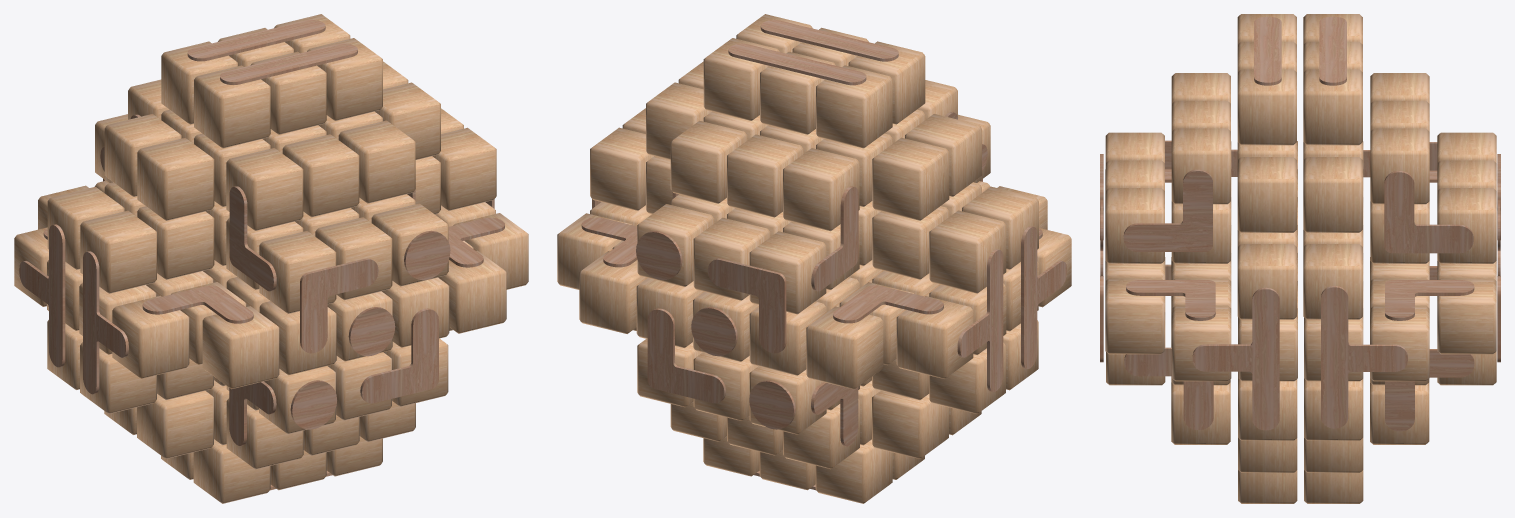
The model's file is level_78.fbx.
The picture shows the model from 3 angles, left to right: view 1: azimuth 30°, elevation 25°; view 2: azimuth 150°, elevation 25°; view 3: azimuth 270°, elevation 25°; orthographic projection.
Visible parts, largest first — view 1: Cube.032, Cube.070, Cube.119, Cube.072, Cube.040, Cube.124, Cube.074, Cube.071, Cube.090, Cube.127, Cube.068, Cube.042 (+60 smaller); view 2: Cube.034, Cube.060, Cube.120, Cube.043, Cube.067, Cube.122, Cube.069, Cube.066, Cube.089, Cube.128, Cube.054, Cube.044 (+59 smaller); view 3: obj_obs_T.004, obj_obs_T.003, Cube.037, Cube.039, Cube.042, Cube.044, obj_obs_L.016, obj_obs_L.014, Cube.054, Cube.068, Cube.127, Cube.128 (+48 smaller).
Boxes of the visible parts, x1=… form: Cube.032: x1=137, y1=138, x2=214, y2=220; Cube.070: x1=202, y1=306, x2=279, y2=389; Cube.119: x1=80, y1=210, x2=156, y2=293; Cube.072: x1=226, y1=148, x2=303, y2=230; Cube.040: x1=194, y1=65, x2=270, y2=148; Cube.124: x1=112, y1=295, x2=189, y2=378; Cube.074: x1=338, y1=120, x2=415, y2=203; Cube.071: x1=282, y1=134, x2=359, y2=217; Cube.090: x1=137, y1=391, x2=213, y2=458; Cube.127: x1=432, y1=127, x2=496, y2=210; Cube.068: x1=438, y1=250, x2=506, y2=333; Cube.042: x1=307, y1=38, x2=382, y2=120; Cube.034: x1=872, y1=137, x2=949, y2=220; Cube.060: x1=806, y1=306, x2=883, y2=389; Cube.120: x1=929, y1=210, x2=1006, y2=293; Cube.043: x1=816, y1=65, x2=892, y2=148; Cube.067: x1=783, y1=148, x2=859, y2=231; Cube.122: x1=896, y1=296, x2=973, y2=378; Cube.069: x1=670, y1=120, x2=747, y2=203; Cube.066: x1=727, y1=134, x2=803, y2=217; Cube.089: x1=872, y1=391, x2=948, y2=458; Cube.128: x1=590, y1=127, x2=653, y2=210; Cube.054: x1=579, y1=251, x2=647, y2=333; Cube.044: x1=703, y1=38, x2=779, y2=120; obj_obs_T.004: x1=1192, y1=287, x2=1279, y2=430; obj_obs_T.003: x1=1321, y1=286, x2=1407, y2=428; Cube.037: x1=1237, y1=157, x2=1296, y2=232; Cube.039: x1=1303, y1=157, x2=1362, y2=232; Cube.042: x1=1237, y1=69, x2=1296, y2=145; Cube.044: x1=1303, y1=69, x2=1362, y2=145; obj_obs_L.016: x1=1384, y1=171, x2=1473, y2=253; obj_obs_L.014: x1=1123, y1=169, x2=1212, y2=251; Cube.054: x1=1437, y1=278, x2=1496, y2=354; Cube.068: x1=1105, y1=278, x2=1164, y2=354; Cube.127: x1=1237, y1=244, x2=1296, y2=319; Cube.128: x1=1303, y1=244, x2=1362, y2=319.
Bounding box in the file's own units: 15.63 × 15.62 × 13.51.
